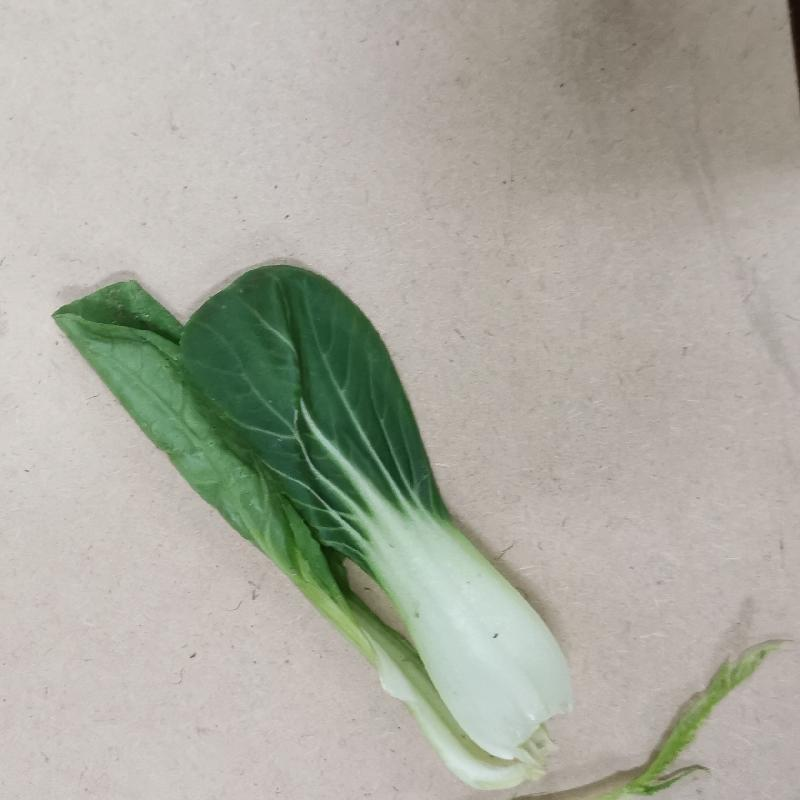green vegatable: (47, 259, 787, 799)
